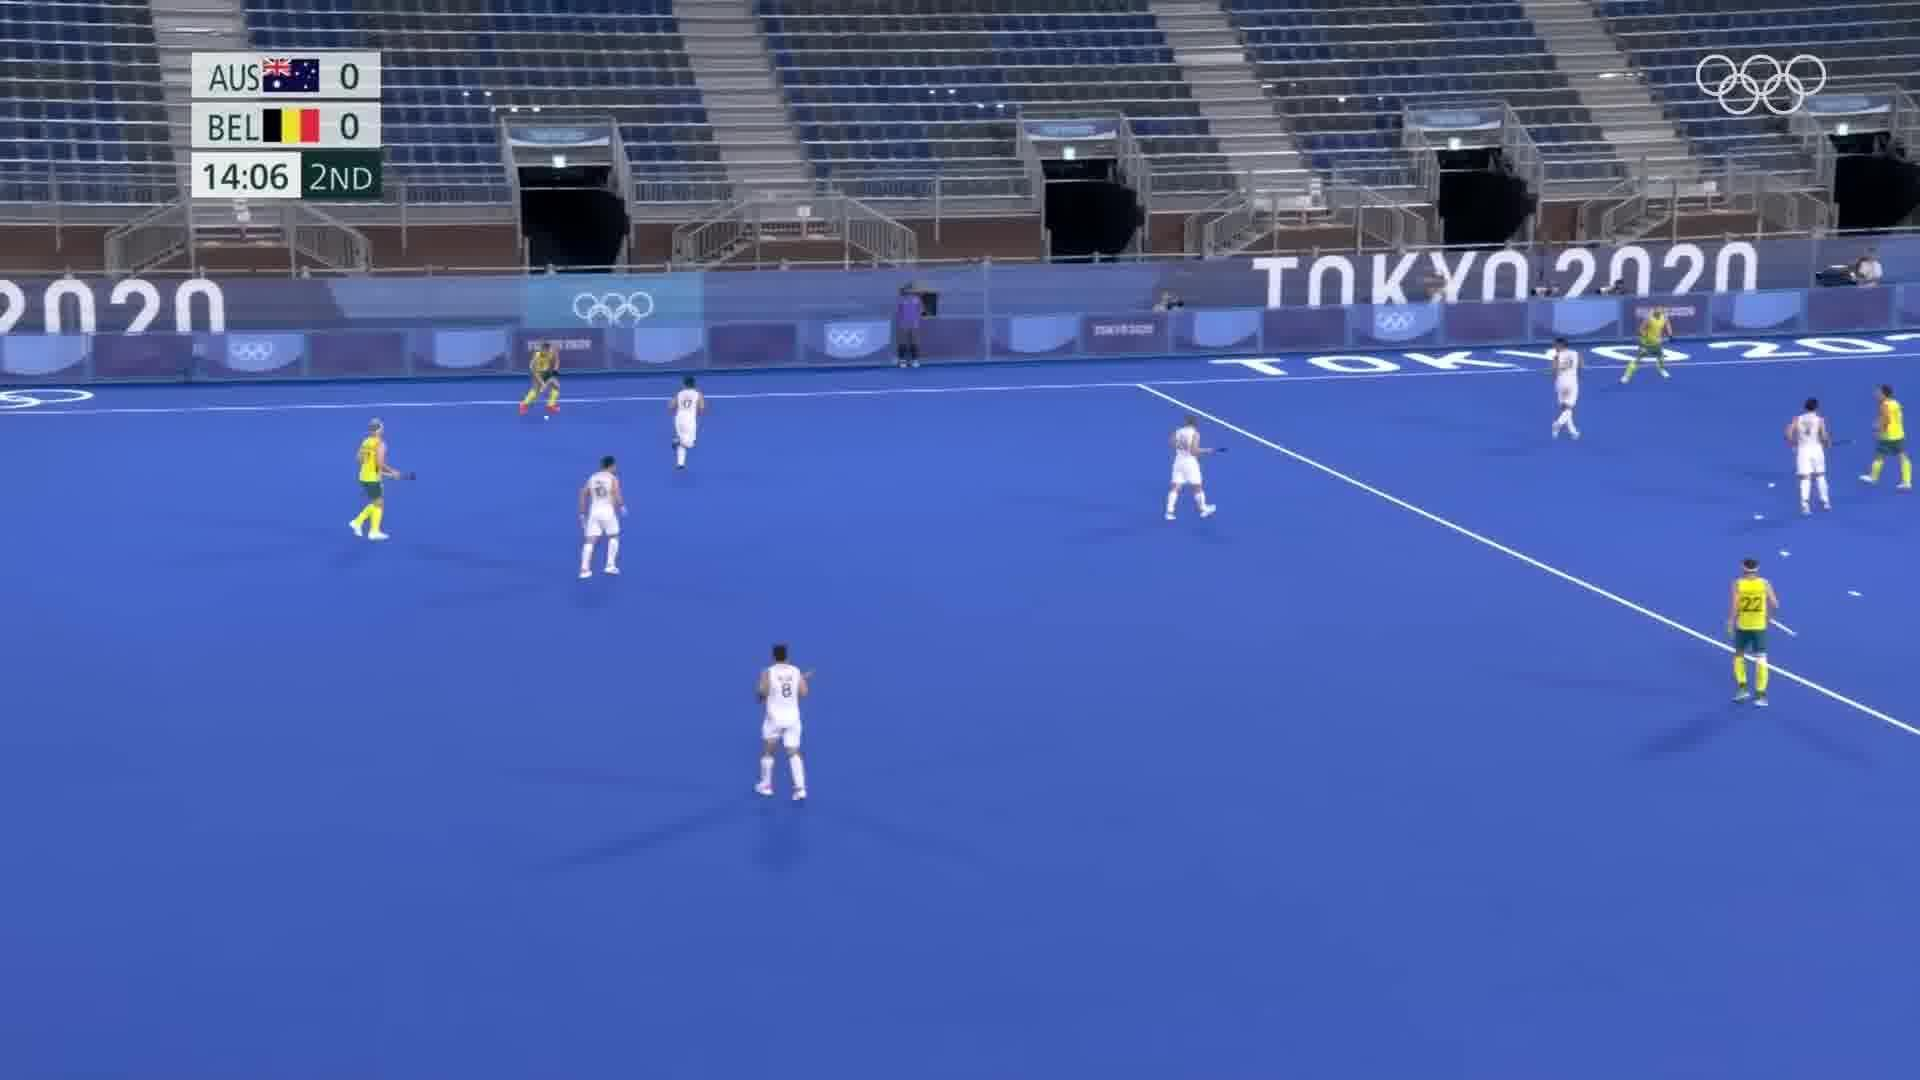ball: (538, 410, 555, 419)
